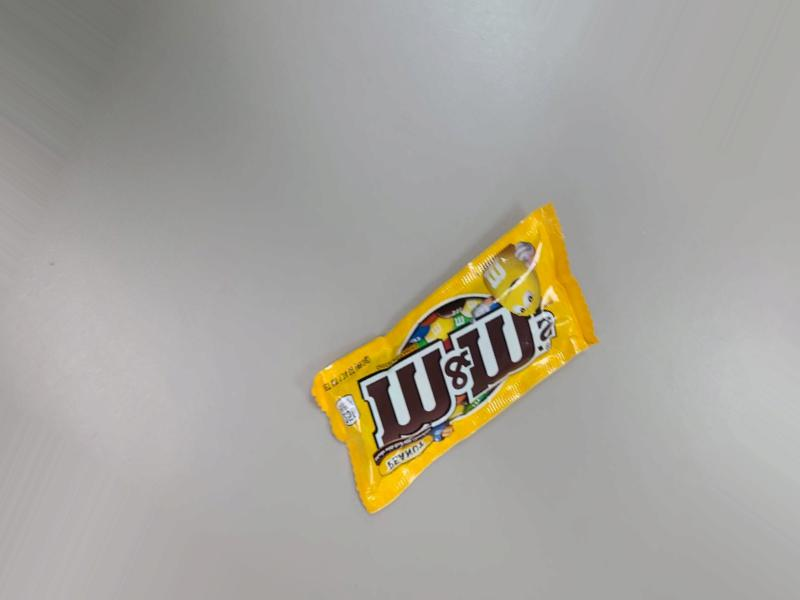m&m: (309, 197, 585, 532)
